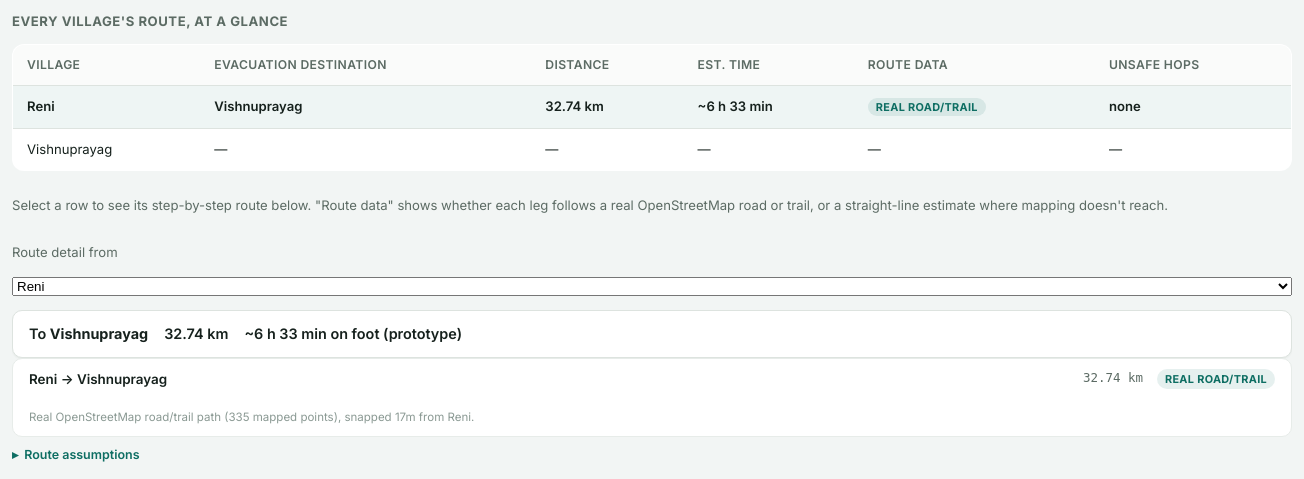
Test case: EvacuationPanel › clicking a summary row selects that village for the detail view
The image size is (1304, 479).
Check: the table is shown, box [12, 44, 1292, 171]
Click the 2nd text "Vishnuprayag".
click(106, 149)  # box [12, 128, 200, 171]
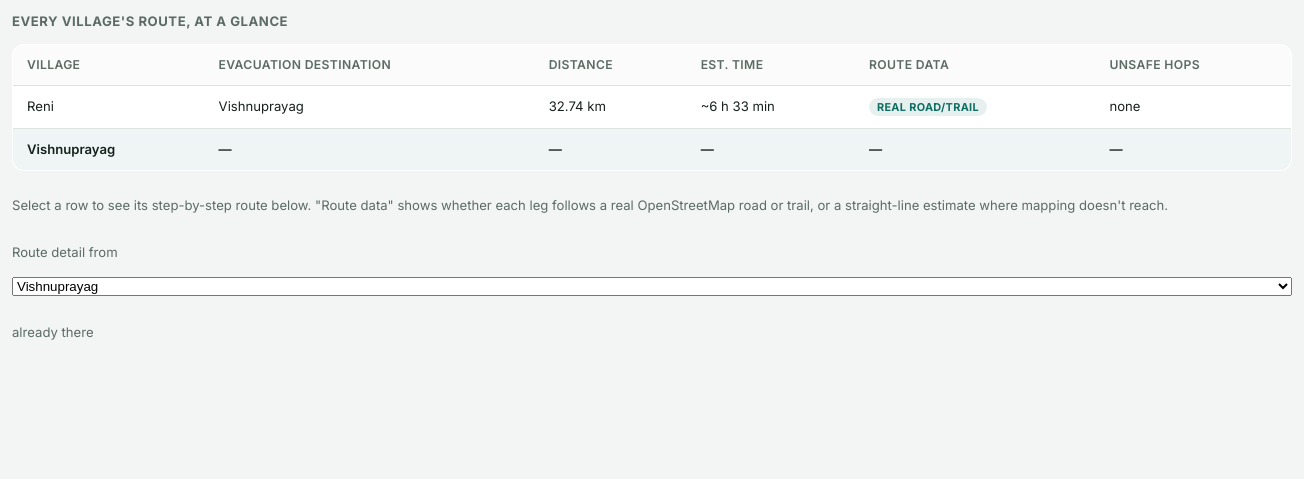
Check: the text "already there" is shown, box [12, 324, 94, 340]
